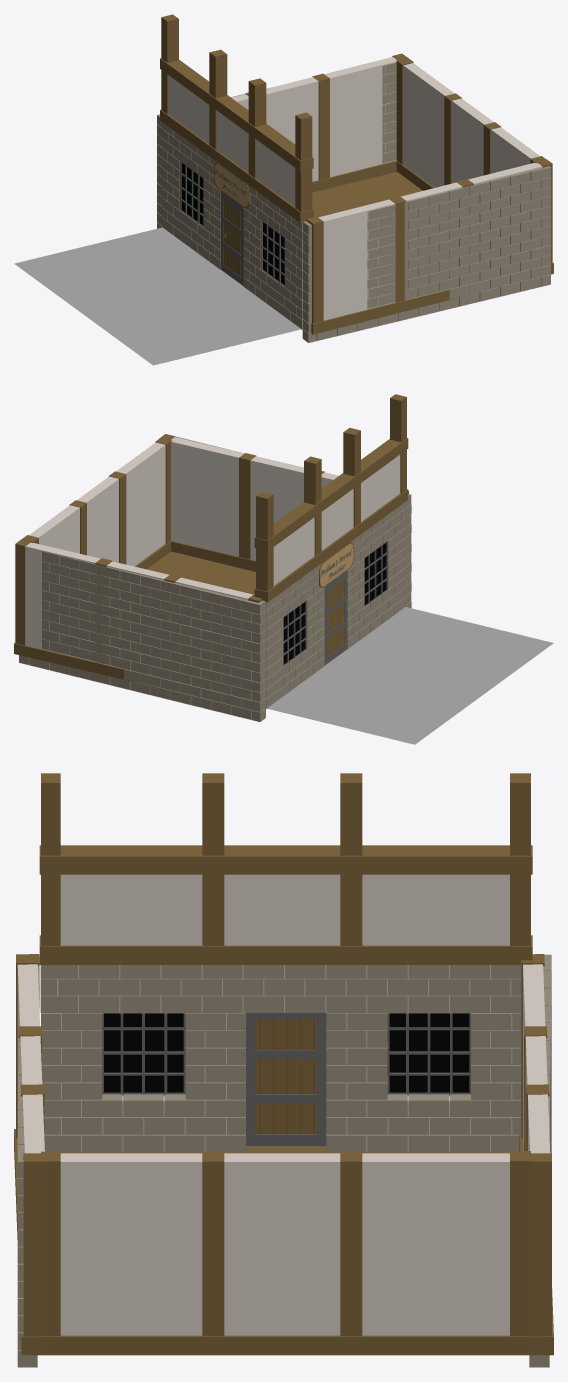
File: testMenuBackground.fbx
The picture shows the model from 3 angles, top to bottom: view 1: azimuth 30°, elevation 25°; view 2: azimuth 150°, elevation 25°; view 3: azimuth 270°, elevation 25°; orthographic projection. The views are drawn at different scales.
Visible parts, largest first — view 1: BrickWall_Back1, pPlane2, BrickWall, pCube13, pCube9, pCube3, pCube11, pCube2, pCube12, pCube1, pCube10, pPlane1 (+9 smaller); view 2: BrickWall_Back, pPlane2, pCube11, BrickWall, pCube9, pCube3, pCube2, pCube1, pCube13, pCube14, pCube10, pPlane1 (+9 smaller); view 3: pCube9, BrickWall, pCube2, pCube10, pCube3, pCube1, Brickplaster, pCube12, door, pCube14, pCube7, pCube8 (+8 smaller).
Boxes of the visible parts, bbox=[...] form: BrickWall_Back1: bbox=[302, 166, 550, 343]; pPlane2: bbox=[14, 227, 301, 365]; BrickWall: bbox=[162, 122, 302, 329]; pCube13: bbox=[231, 57, 397, 181]; pCube9: bbox=[403, 63, 540, 187]; pCube3: bbox=[160, 14, 313, 171]; pCube11: bbox=[318, 162, 542, 320]; pCube2: bbox=[168, 75, 295, 206]; pCube12: bbox=[306, 159, 553, 334]; pCube1: bbox=[160, 70, 313, 222]; pCube10: bbox=[396, 57, 545, 190]; pPlane1: bbox=[312, 172, 422, 217]; BrickWall_Back: bbox=[19, 551, 265, 722]; pPlane2: bbox=[267, 607, 553, 744]; pCube11: bbox=[171, 437, 338, 560]; BrickWall: bbox=[266, 502, 405, 708]; pCube9: bbox=[29, 442, 165, 566]; pCube3: bbox=[254, 394, 408, 550]; pCube2: bbox=[273, 454, 400, 585]; pCube1: bbox=[254, 450, 408, 602]; pCube13: bbox=[25, 542, 253, 655]; pCube14: bbox=[14, 539, 261, 685]; pCube10: bbox=[21, 438, 172, 569]; pPlane1: bbox=[147, 551, 255, 594]; pCube9: bbox=[60, 1153, 509, 1335]; BrickWall: bbox=[40, 965, 521, 1151]; pCube2: bbox=[60, 874, 509, 945]; pCube10: bbox=[39, 1151, 532, 1355]; pCube3: bbox=[39, 773, 532, 874]; pCube1: bbox=[39, 874, 532, 964]; Brickplaster: bbox=[41, 965, 521, 1151]; pCube12: bbox=[14, 954, 48, 1355]; door: bbox=[255, 1018, 326, 1133]; pCube14: bbox=[519, 954, 553, 1355]; pCube7: bbox=[389, 1013, 469, 1092]; pCube8: bbox=[104, 1013, 183, 1092].
Size of the model in its own units: 39.86 by 21.19 by 26.87.
